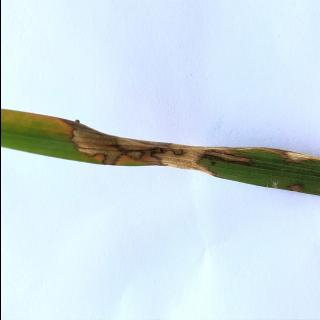Hawar-Daun: (69, 119, 211, 176), (197, 148, 257, 170), (259, 146, 320, 162), (288, 183, 302, 196)
